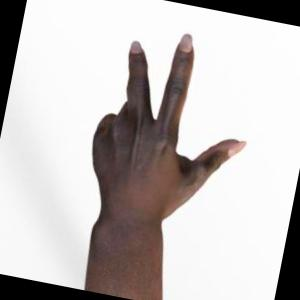scissors: (85, 35, 245, 300)
